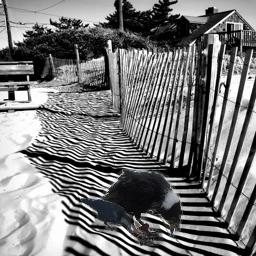Crow: (99, 169, 183, 246), (80, 198, 131, 233)
